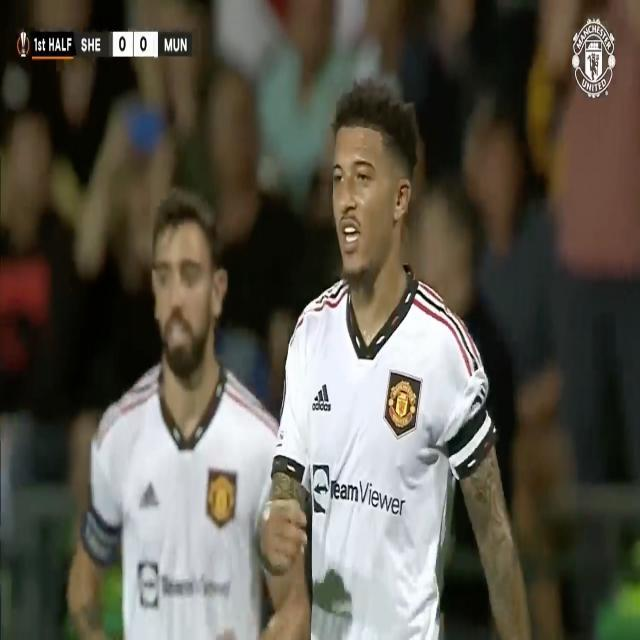Adidas: (311, 380, 332, 415), (138, 479, 158, 509)
TeamViewer: (138, 560, 232, 612), (312, 465, 406, 516)
